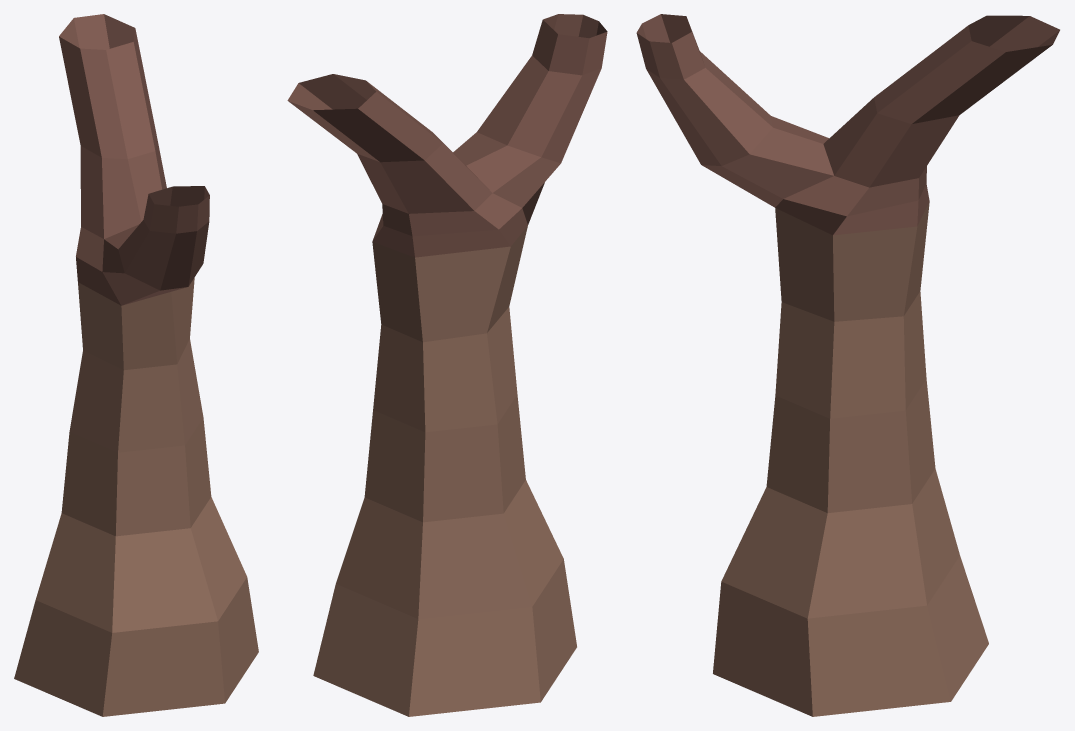
File: Tronc007.fbx
The picture shows the model from 3 angles, left to right: view 1: azimuth 30°, elevation 25°; view 2: azimuth 150°, elevation 25°; view 3: azimuth 270°, elevation 25°; orthographic projection. The views are drawn at different scales.
Visible parts, largest first — view 1: Tronc007; view 2: Tronc007; view 3: Tronc007.
Part boxes in pixels (box(x1,y1,x2,y2)): Tronc007: box(14, 14, 258, 716); Tronc007: box(287, 14, 607, 716); Tronc007: box(636, 14, 1059, 716).
Bounding box in the file's own units: 17.33 × 44.87 × 26.71.
